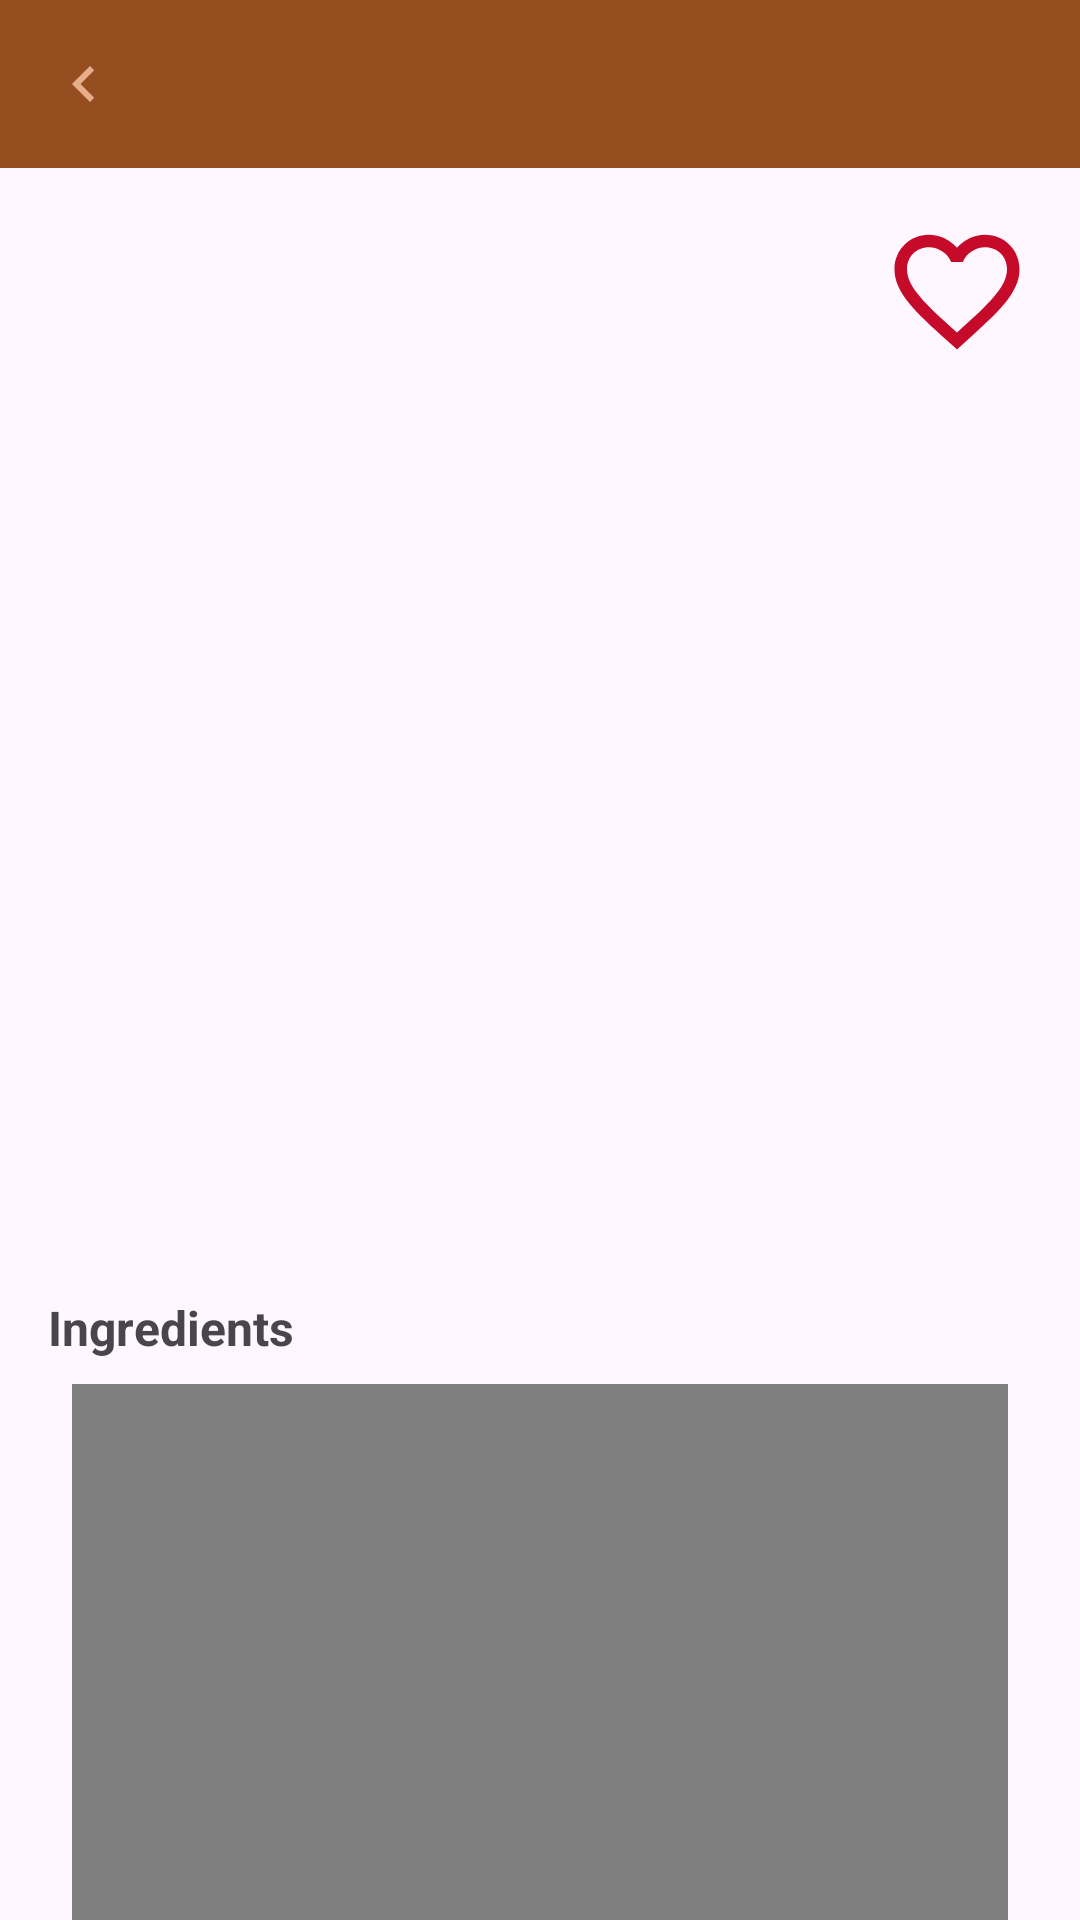

Icon click points for this 1080 × 1920 phone screenshot, format [x,y]:
chevron left: [83,84]
favorite border: [957,292]
